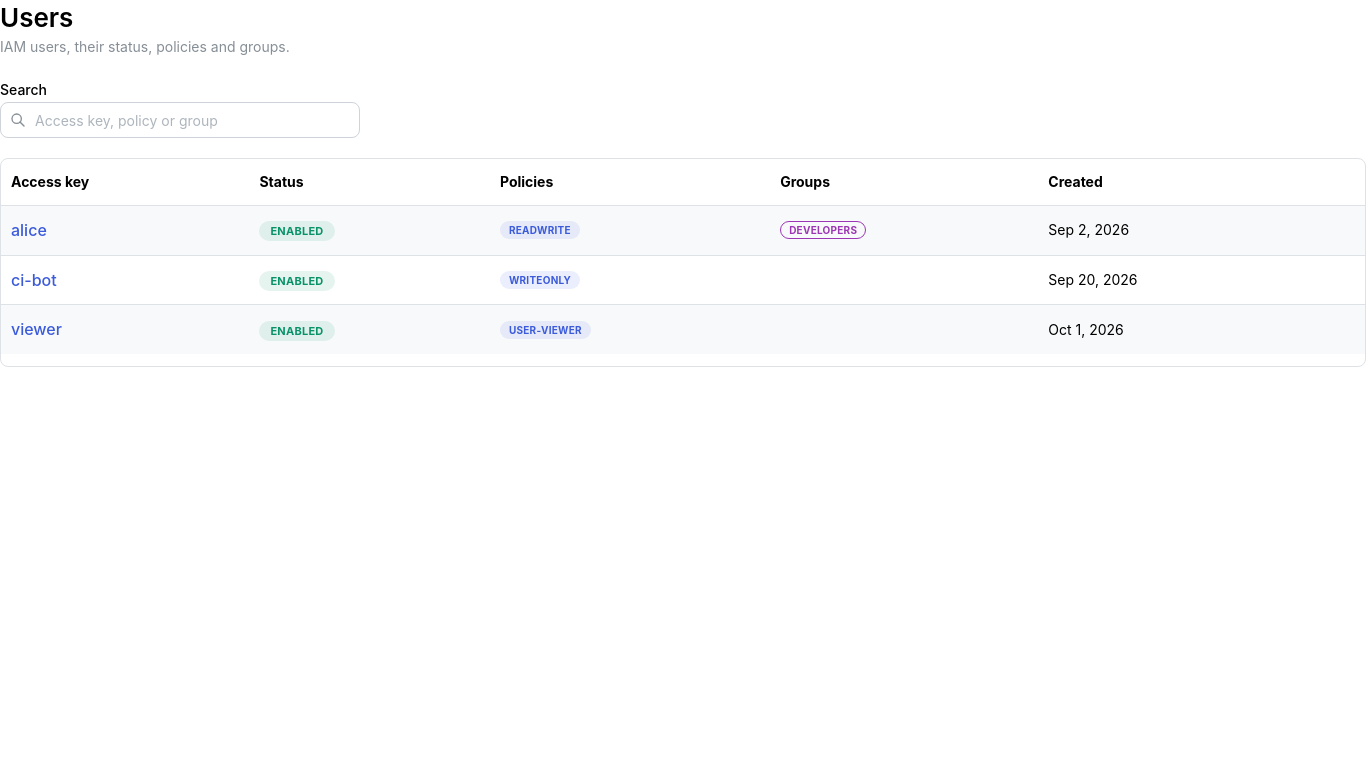
Test: permission-aware UI (TD-U-09) › hides create and delete and disables the controls the user may not use
Click the button "alice".
click(29, 230)  # box 11,218 -> 47,243
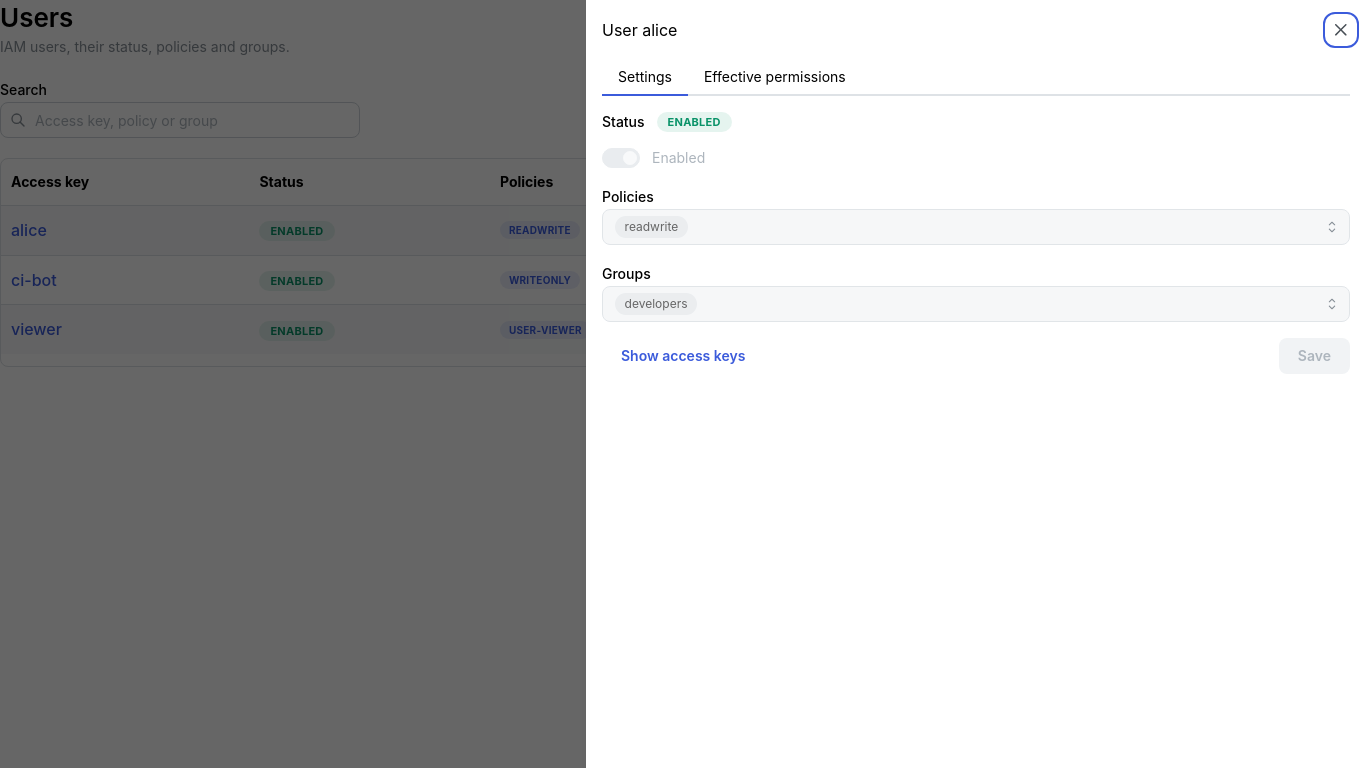
Check: the switch labelled "Enabled" is disabled, box 602,148 -> 705,168
Check: the element named "You do not have the permission admin:AttachUserOrGroupPolicy." is shown, box 602,184 -> 1350,245
